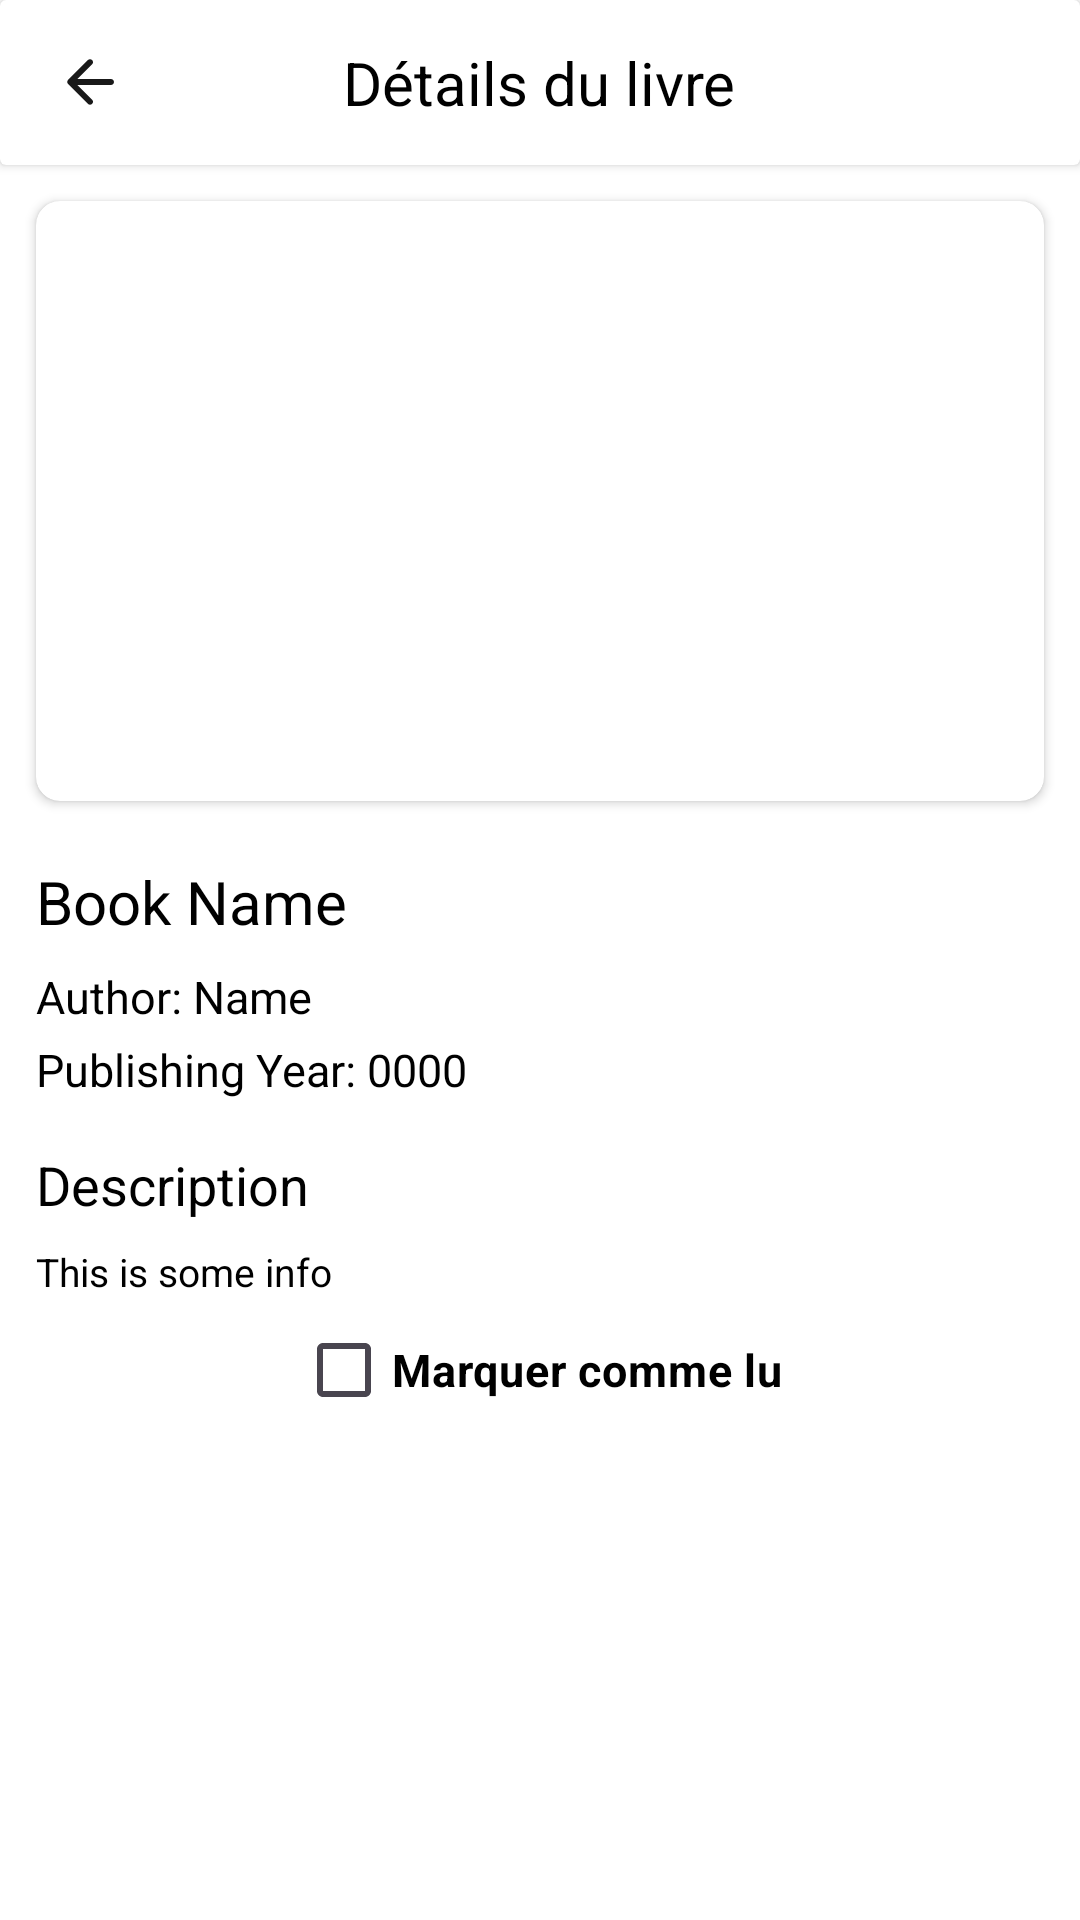

Screen size 1080*1920. Icon name, then its box in pixels as box(x1, y1, x2, y2):
arrow back: box(67, 59, 114, 105)
